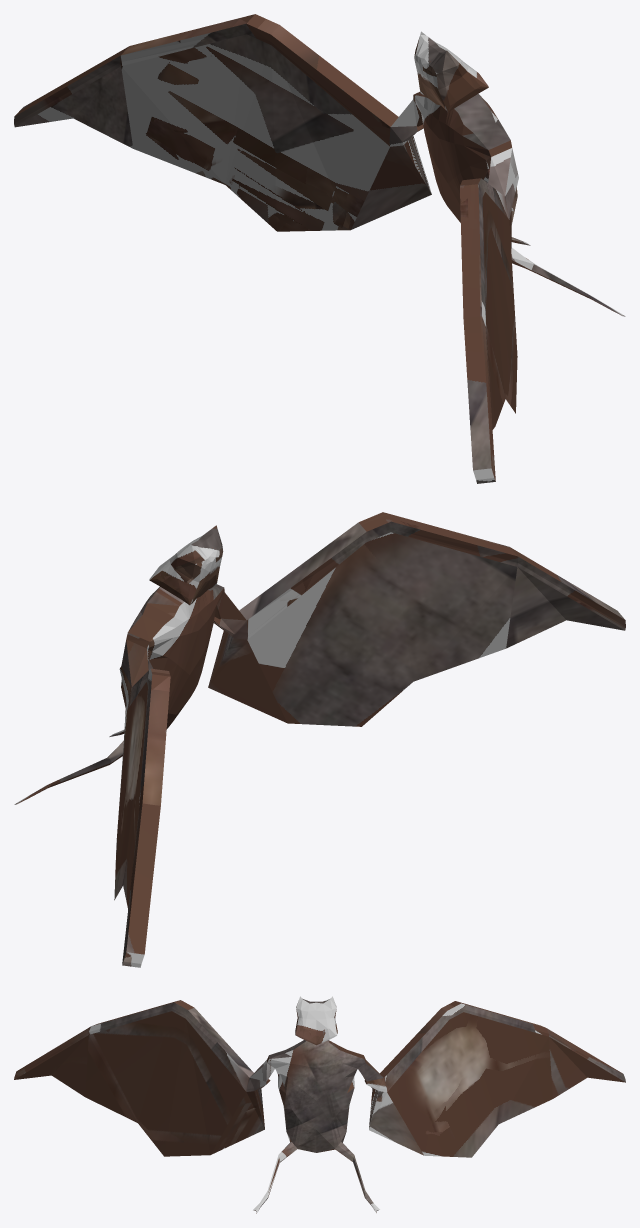
File: Enemigo17.obj
The picture shows the model from 3 angles, top to bottom: view 1: azimuth 30°, elevation 25°; view 2: azimuth 150°, elevation 25°; view 3: azimuth 270°, elevation 25°; orthographic projection. The views are drawn at different scales.
Visible parts, largest first — view 1: Plano; view 2: Plano; view 3: Plano.
Part boxes in pixels (<box>): Plano: <box>14,14,625,483</box>; Plano: <box>14,512,625,967</box>; Plano: <box>14,996,625,1213</box>.
Size of the model in its own units: 0.8203 by 0.6375 by 2.04.
Materials: 1 (1 with a texture image).
